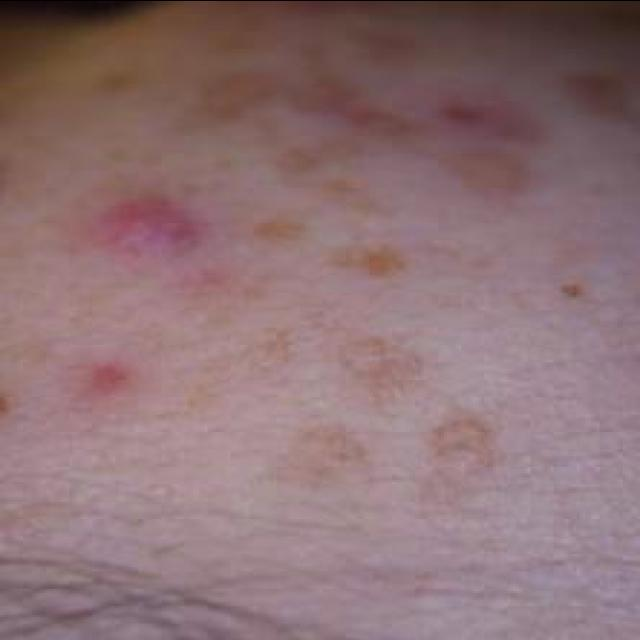Acne: (82, 182, 210, 280), (420, 84, 544, 144), (67, 352, 143, 406)
